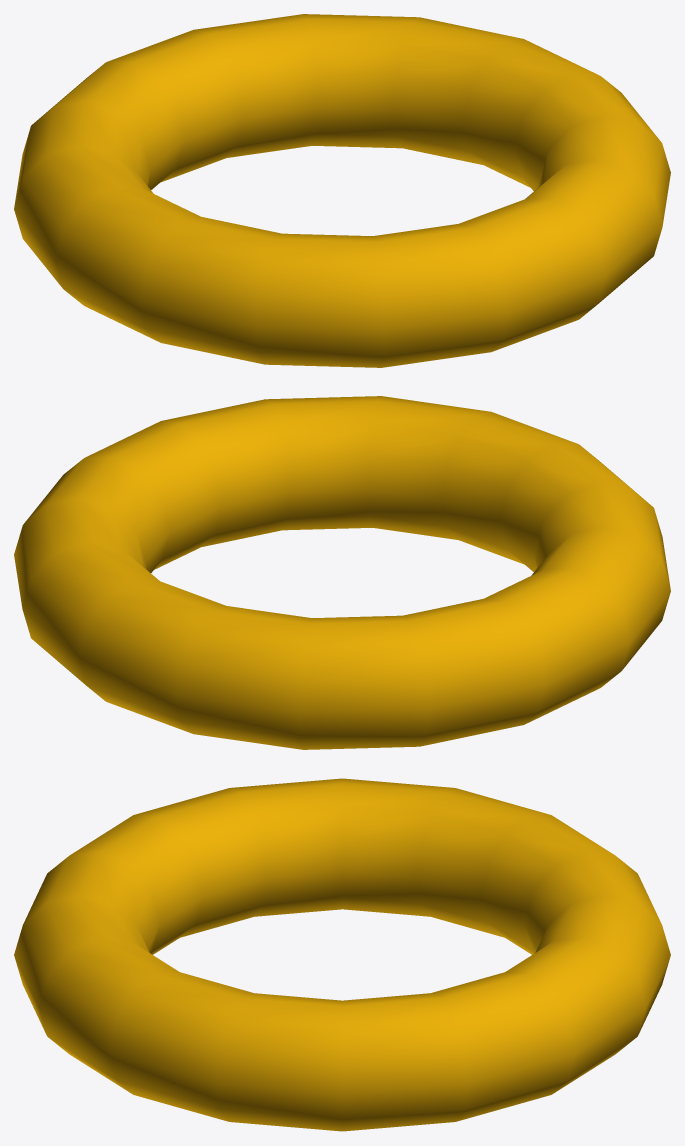
Rendered from ring.fbx.
The picture shows the model from 3 angles, top to bottom: view 1: azimuth 30°, elevation 25°; view 2: azimuth 150°, elevation 25°; view 3: azimuth 270°, elevation 25°; orthographic projection.
Visible parts, largest first — view 1: Ring; view 2: Ring; view 3: Ring.
Boxes of the visible parts, x1,y1,x2,y2 form: Ring: [14, 14, 670, 367]; Ring: [14, 396, 670, 749]; Ring: [14, 778, 670, 1131].
Bounding box in the file's own units: 2.5 × 0.5 × 2.5.
